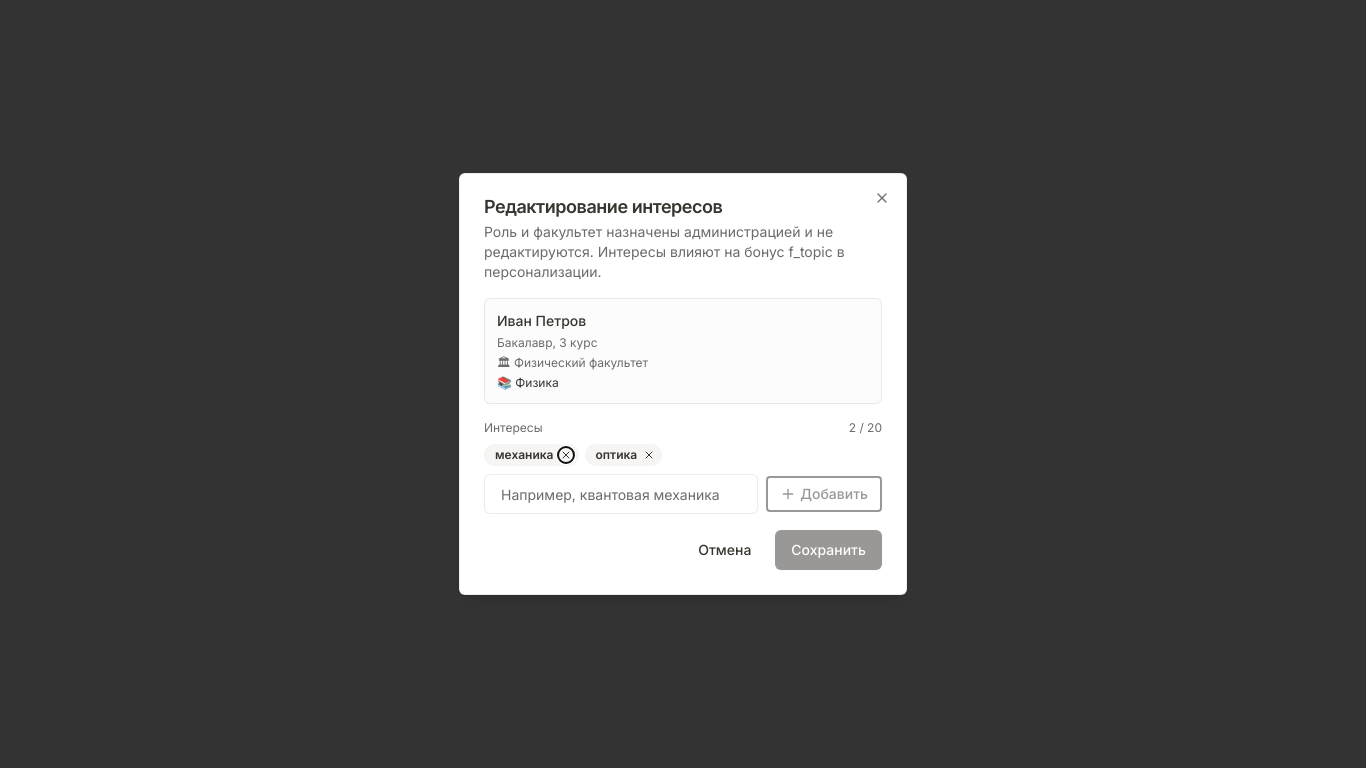
Test: InterestsEditorDialog › adds a new interest via the Add button
The width and height of the screenshot is (1366, 768).
Type "  плазма  " into the field with placeholder "Например, квантовая механика". click: (621, 494)
box: 484,474 -> 758,514
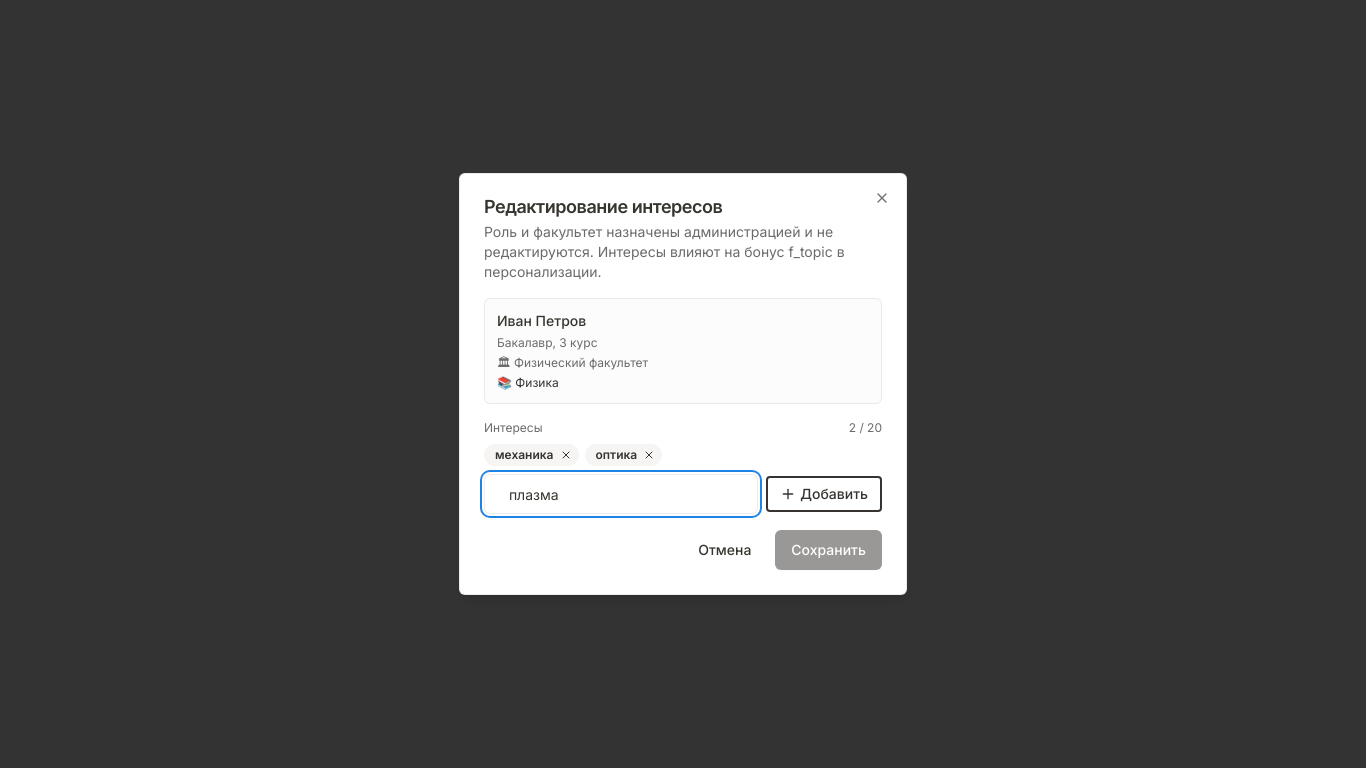
Result: the button "Добавить" is enabled
Click the button "Добавить". click: (824, 494)
box: 766,476 -> 882,512
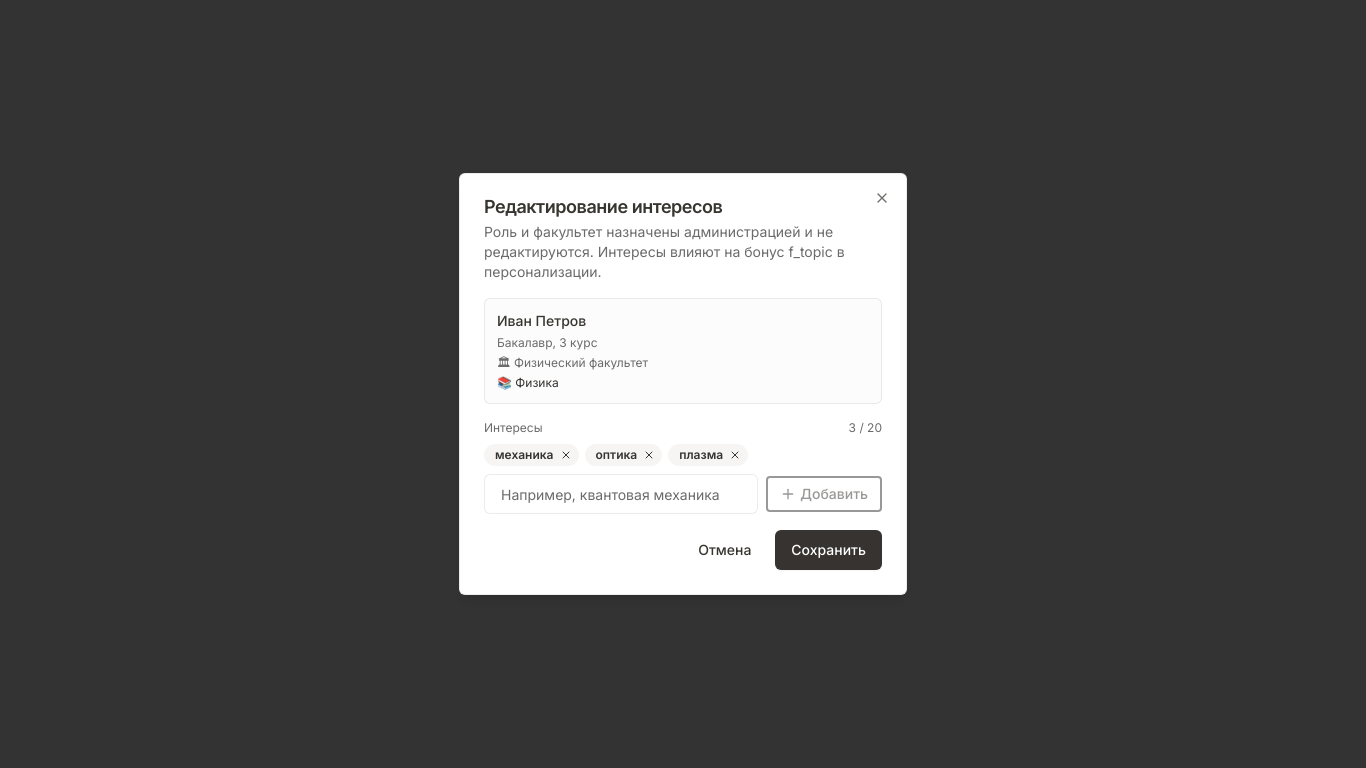
Result: the text "плазма" is shown at 679,447 -> 723,463
Result: the field with placeholder "Например, квантовая механика" is empty at 484,474 -> 758,514
